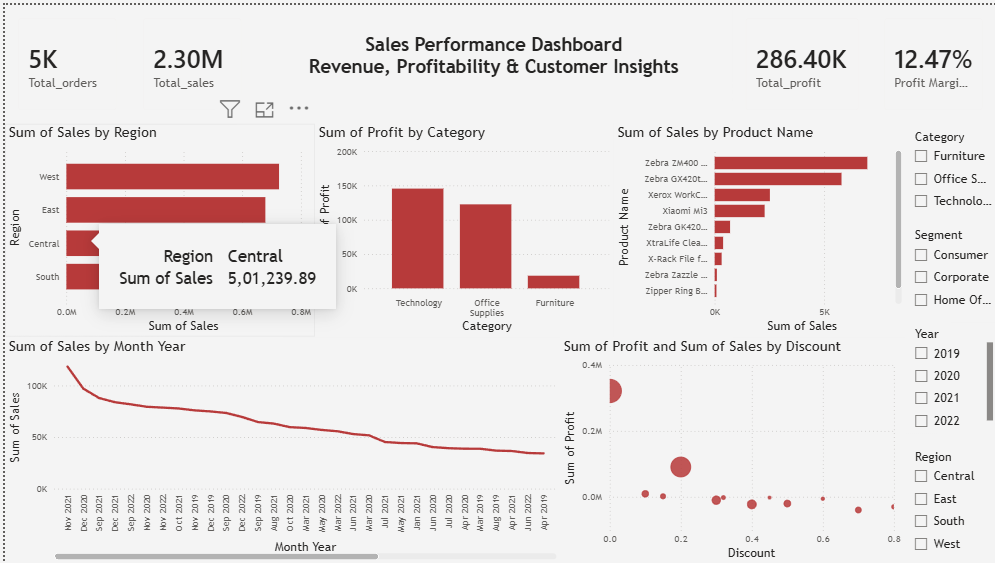

This screenshot's page, from the dashboard's own definition file:
{"tool":"powerbi","page":{"name":"Page 1","canvas":[1280,720],"ordinal":0},"visuals":[{"type":"cardVisual","fields":{"Data":["Orders.Total_sales"]},"box":[161.7,0,161.7,153.3],"z":0},{"type":"cardVisual","fields":{"Data":["Orders.Total_orders"]},"box":[0,0,161.7,153.3],"z":1},{"type":"cardVisual","fields":{"Data":["Orders.Total_profit"]},"box":[938.3,0,180,153.3],"z":2},{"type":"cardVisual","fields":{"Data":["Orders.Profit Margin %"]},"box":[1118.3,0,161.7,153.3],"z":3},{"type":"textbox","box":[322.6,0,616.1,153.2],"z":4},{"type":"clusteredBarChart","fields":{"Category":["Orders.Region"],"Y":["Sum(Orders.Sales)"]},"box":[0,153.3,400,275],"z":5},{"type":"clusteredColumnChart","fields":{"Category":["Orders.Category"],"Y":["Sum(Orders.Profit)"]},"box":[400,153.3,385,275],"z":6},{"type":"lineChart","fields":{"Category":["Orders.Month Year"],"Y":["Sum(Orders.Sales)"]},"box":[0,428.3,716.7,291.7],"z":7},{"type":"barChart","fields":{"Category":["Orders.Product Name"],"Y":["Sum(Orders.Sales)"]},"box":[785,153.3,376.7,275],"z":8},{"type":"scatterChart","fields":{"Size":["Sum(Orders.Sales)"],"Y":["Sum(Orders.Profit)"],"X":["Orders.Discount"]},"box":[716.7,428.3,445,291.7],"z":9},{"type":"slicer","fields":{"Values":["Orders.Region"]},"box":[1161.7,568.3,118.3,151.7],"z":10},{"type":"slicer","fields":{"Values":["Orders.Category"]},"box":[1161.7,155,118.3,126.7],"z":12},{"type":"slicer","fields":{"Values":["Orders.Segment"]},"box":[1161.7,281.7,118.3,128.3],"z":13},{"type":"slicer","fields":{"Values":["Orders.Year"]},"box":[1161.7,410,118.3,143.3],"z":14}]}

Visuals, with their boxes in screenshot pixels (x1, y1, x2, y2), scaled from the page's 1280x720 canvas onto the 995x563 screenshot:
cardVisual - Orders.Total_sales: 126/0/251/120
cardVisual - Orders.Total_orders: 0/0/126/120
cardVisual - Orders.Total_profit: 729/0/869/120
cardVisual - Orders.Profit Margin %: 869/0/994/120
textbox: 251/0/730/120
clusteredBarChart - Orders.Region x Sum(Orders.Sales): 0/120/311/335
clusteredColumnChart - Orders.Category x Sum(Orders.Profit): 311/120/610/335
lineChart - Orders.Month Year x Sum(Orders.Sales): 0/335/557/562
barChart - Orders.Product Name x Sum(Orders.Sales): 610/120/903/335
scatterChart - Sum(Orders.Sales) x Sum(Orders.Profit): 557/335/903/562
slicer - Orders.Region: 903/444/994/562
slicer - Orders.Category: 903/121/994/220
slicer - Orders.Segment: 903/220/994/321
slicer - Orders.Year: 903/321/994/433
